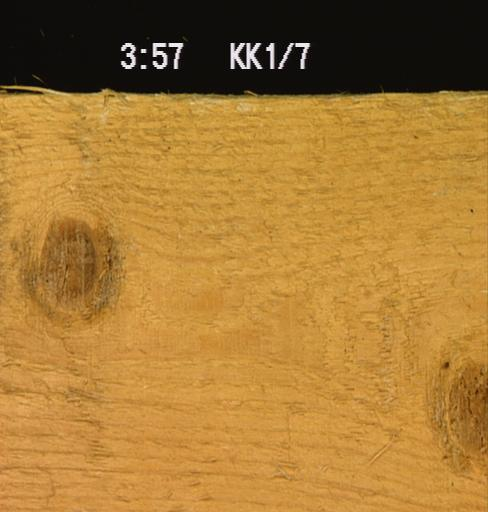sound_knot: (21, 213, 128, 326), (425, 351, 487, 480)
